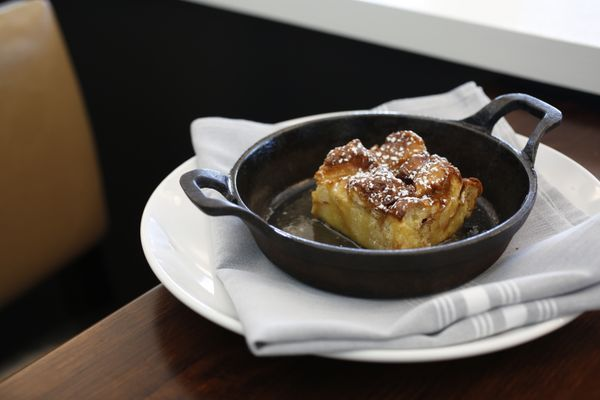sushi: (178, 101, 539, 300)
